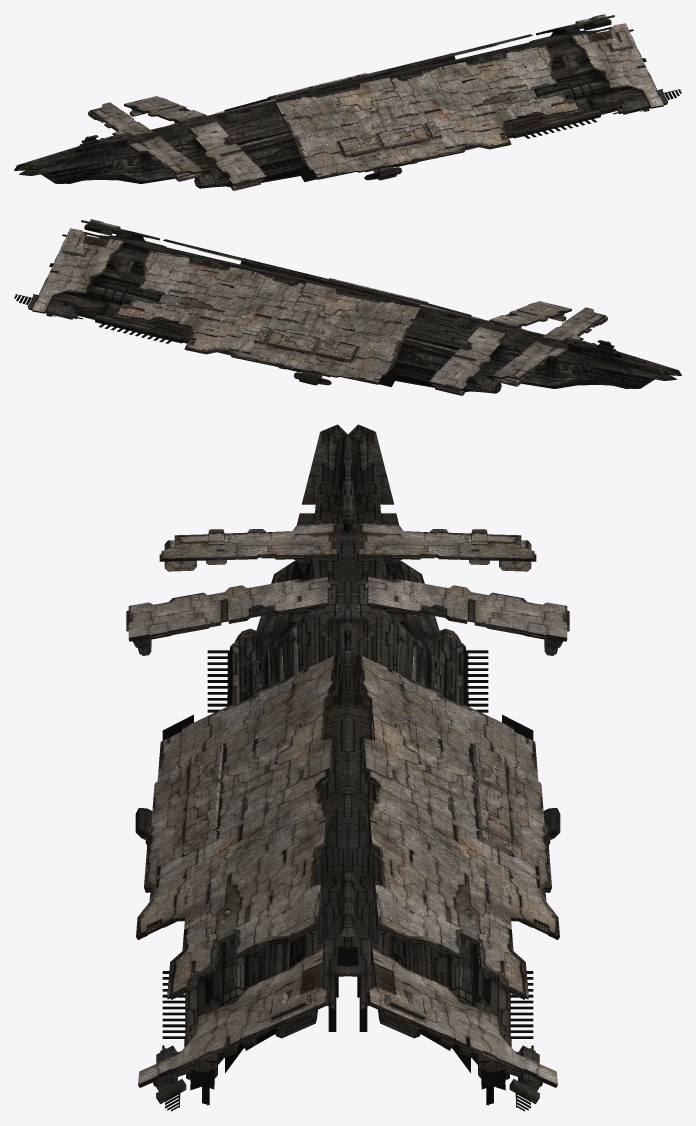
The model's file is MXH.FBX.
3 views of the same model, one above another, from view 1: azimuth 30°, elevation 25°; view 2: azimuth 150°, elevation 25°; view 3: azimuth 270°, elevation 25° (orthographic). The views are drawn at different scales.
Parts seen in each view (by area): view 1: shape32; view 2: shape32; view 3: shape32.
Boxes of the visible parts, x1,y1,x2,y2 form: shape32: (14,14,681,190); shape32: (14,219,681,395); shape32: (126,424,569,1111).
Bounding box in the file's own units: 3652 × 1126 × 420.
Materials: 1 (1 with a texture image).
